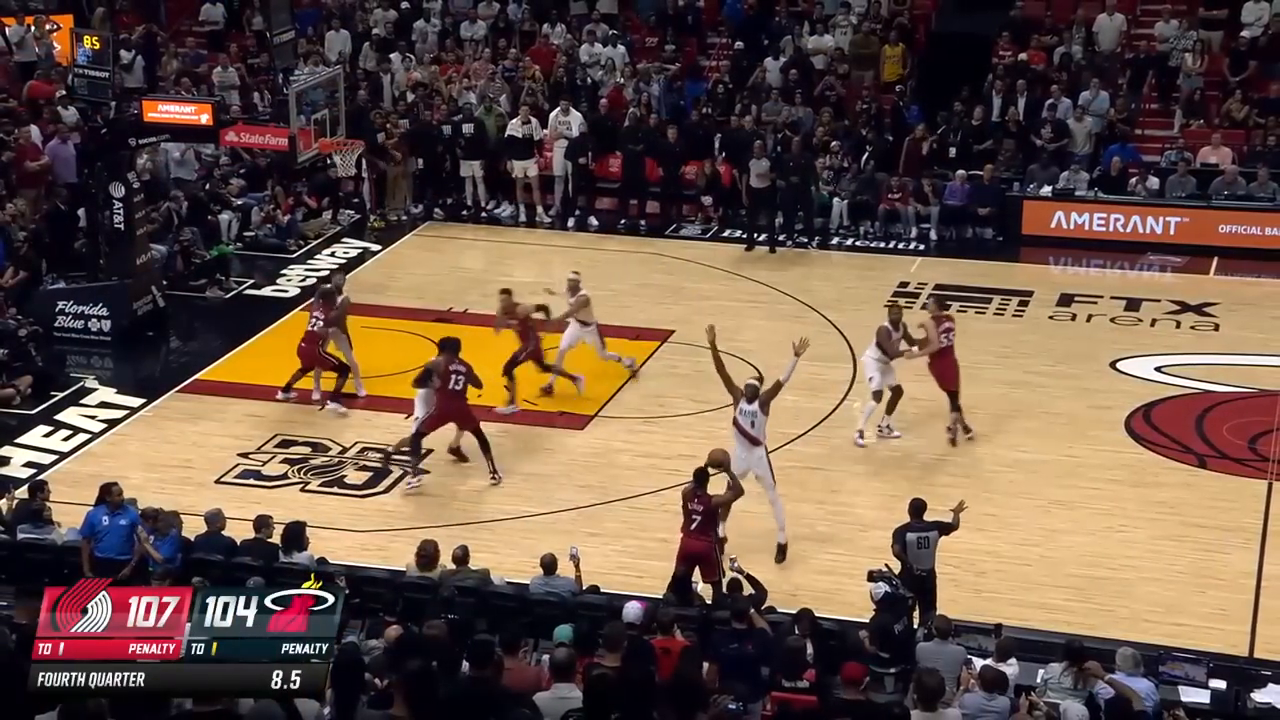ball: (705, 443, 733, 477)
net: (329, 137, 364, 176)
